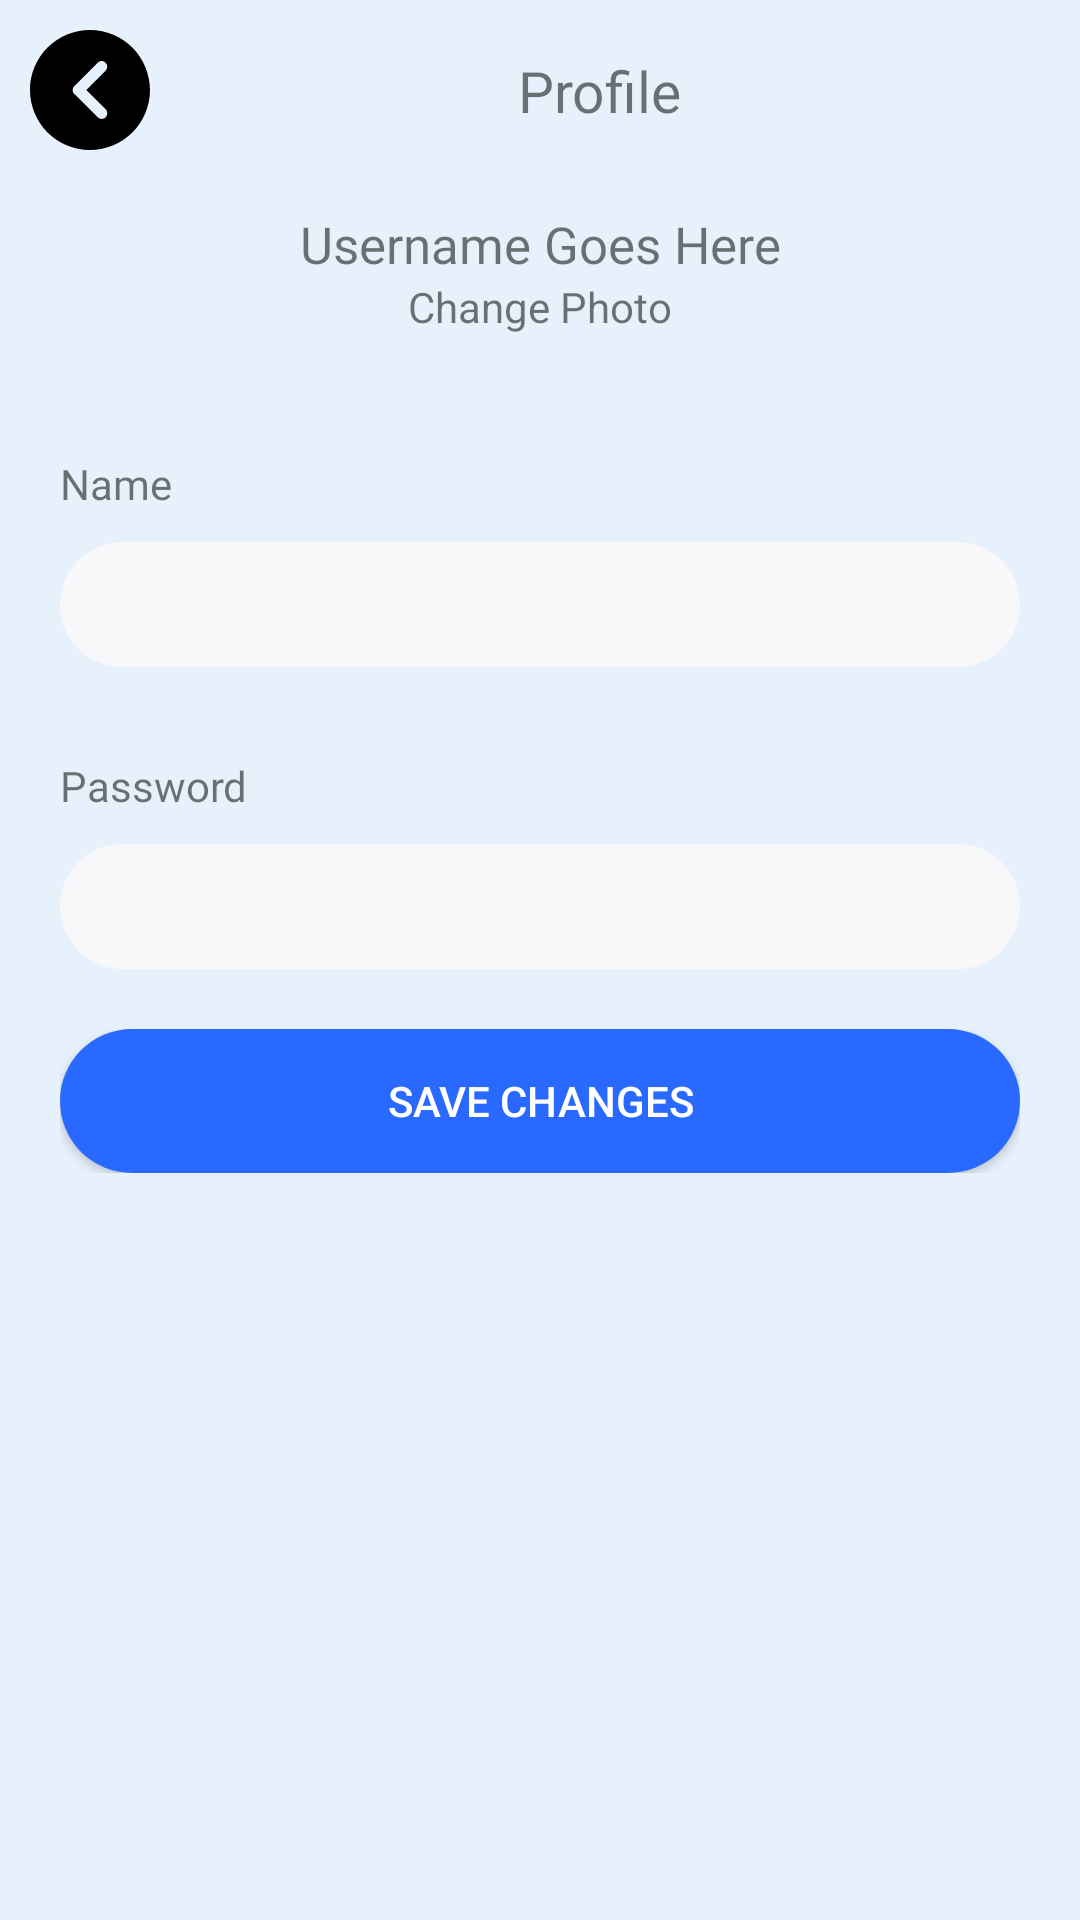

Icons on this 1080 x 1920 Android screen, each with the point to tap as (x=x, y=y):
back: (x=90, y=90)
